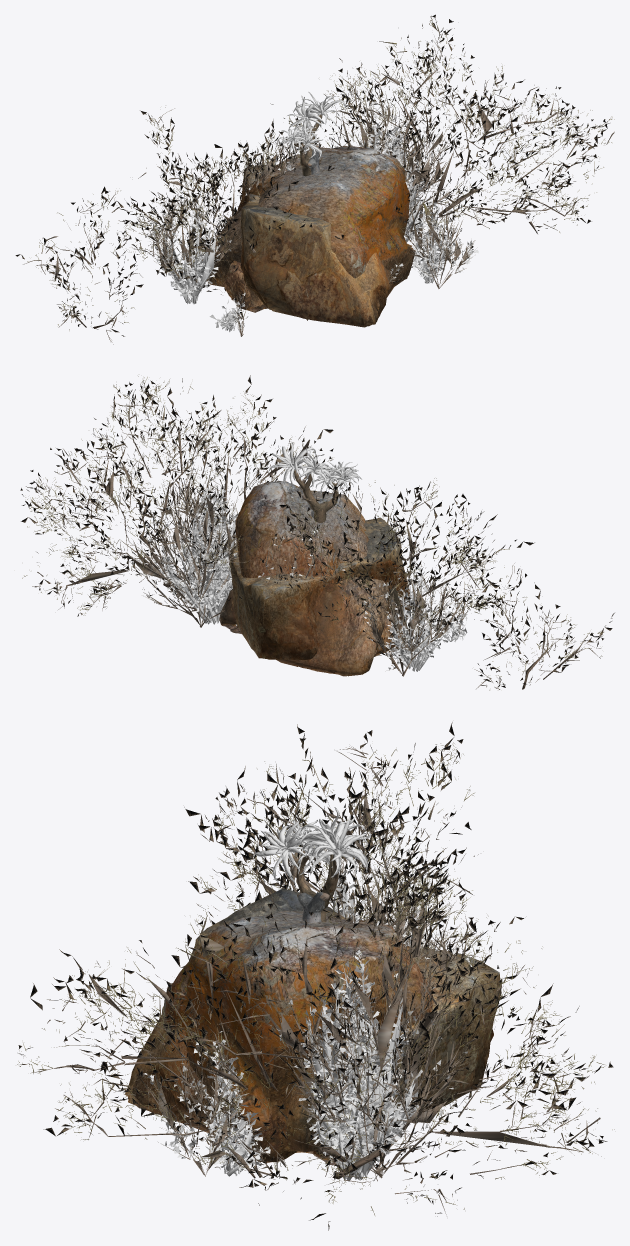
Rendered from Wueste_Scans.fbx.
3 renders of one model, top to bottom at view 1: azimuth 30°, elevation 25°; view 2: azimuth 150°, elevation 25°; view 3: azimuth 270°, elevation 25°, orthographic. The views are drawn at different scales.
Parts seen in each view (by area): view 1: searsia_burchellii, namaqualand_boulder_04, namaqualand_boulder_03, searsia_lucida, othonna_cerarioides, quiver_tree_01, namaqualand_boulder_02; view 2: searsia_burchellii, namaqualand_boulder_04, searsia_lucida, namaqualand_boulder_03, othonna_cerarioides, quiver_tree_01, namaqualand_boulder_02; view 3: searsia_burchellii, namaqualand_boulder_04, searsia_lucida, namaqualand_boulder_03, othonna_cerarioides, quiver_tree_01, dead_quiver_trunk.
Boxes of the visible parts, left/top/right/bottom form: searsia_burchellii: left=15, top=14, right=614, bottom=344; namaqualand_boulder_04: left=202, top=145, right=415, bottom=286; namaqualand_boulder_03: left=237, top=164, right=394, bottom=327; searsia_lucida: left=145, top=89, right=478, bottom=336; othonna_cerarioides: left=167, top=123, right=449, bottom=331; quiver_tree_01: left=276, top=92, right=346, bottom=176; namaqualand_boulder_02: left=223, top=260, right=267, bottom=312; searsia_burchellii: left=20, top=375, right=614, bottom=690; namaqualand_boulder_04: left=235, top=480, right=388, bottom=676; searsia_lucida: left=113, top=461, right=469, bottom=676; namaqualand_boulder_03: left=229, top=517, right=409, bottom=660; othonna_cerarioides: left=159, top=484, right=467, bottom=671; quiver_tree_01: left=268, top=442, right=361, bottom=522; namaqualand_boulder_02: left=219, top=589, right=404, bottom=656; searsia_burchellii: left=17, top=722, right=614, bottom=1230; namaqualand_boulder_04: left=161, top=910, right=433, bottom=1163; searsia_lucida: left=143, top=834, right=482, bottom=1178; namaqualand_boulder_03: left=125, top=888, right=501, bottom=1152; othonna_cerarioides: left=206, top=869, right=422, bottom=1181; quiver_tree_01: left=254, top=807, right=371, bottom=922; dead_quiver_trunk: left=297, top=892, right=329, bottom=922.
Size of the model in its own units: 833 by 322 by 496.
